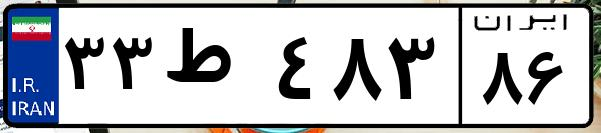3: (385, 28, 445, 110), (57, 26, 110, 100), (110, 28, 158, 98)
4: (270, 28, 330, 110)
6: (525, 38, 570, 115)
8: (330, 28, 385, 110), (475, 38, 525, 113)
ط: (158, 20, 270, 120)
